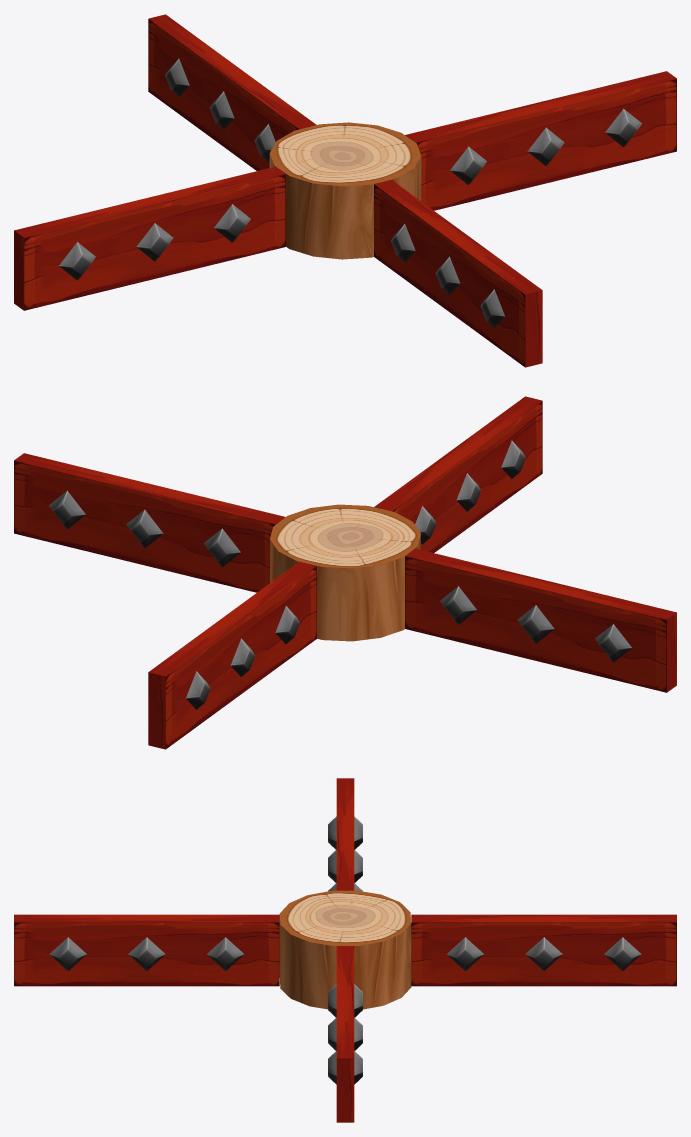
File: four_blade_red_02.fbx
3 views of the same model, one above another, from view 1: azimuth 30°, elevation 25°; view 2: azimuth 150°, elevation 25°; view 3: azimuth 270°, elevation 25° (orthographic). The views are drawn at different scales.
Parts seen in each view (by area): view 1: four_blade_red_02; view 2: four_blade_red_02; view 3: four_blade_red_02.
Boxes of the visible parts, bbox=[...] form: four_blade_red_02: bbox=[14, 14, 676, 367]; four_blade_red_02: bbox=[14, 396, 676, 749]; four_blade_red_02: bbox=[14, 778, 676, 1122].
Bounding box in the file's own units: 374 × 40 × 374.
